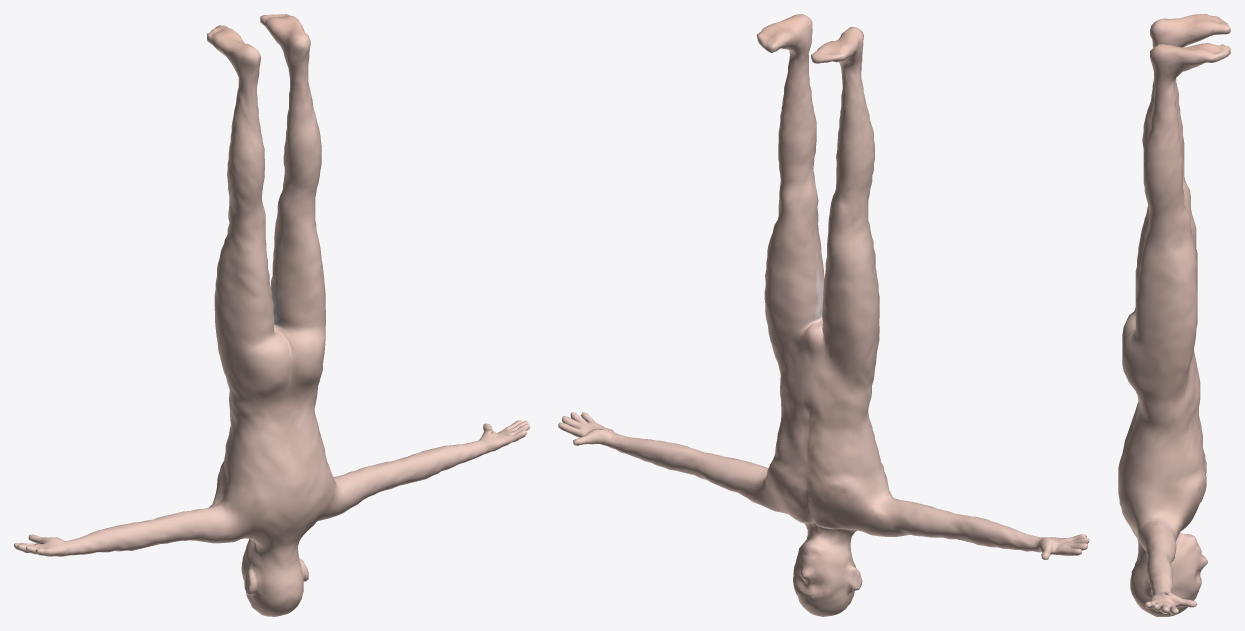
Rendered from base_male_with_skin_texture.glb.
3 views of the same model, side by side, from view 1: azimuth 30°, elevation 25°; view 2: azimuth 150°, elevation 25°; view 3: azimuth 270°, elevation 25° (orthographic). The views are drawn at different scales.
Parts seen in each view (by area): view 1: base_base_male_with_skin_texture; view 2: base_base_male_with_skin_texture; view 3: base_base_male_with_skin_texture.
Part boxes in pixels (left/top/right/bottom): base_base_male_with_skin_texture: left=14, top=14, right=529, bottom=616; base_base_male_with_skin_texture: left=558, top=14, right=1089, bottom=616; base_base_male_with_skin_texture: left=1118, top=14, right=1230, bottom=616.
Bounding box in the file's own units: 1.63 × 1.75 × 0.3054.
1 material, 1 textured.
